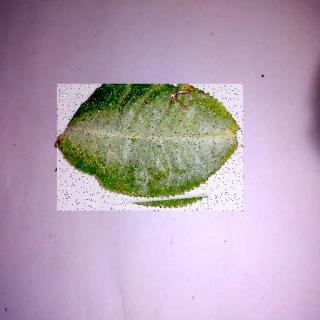Anthracnose: (59, 85, 246, 213)
